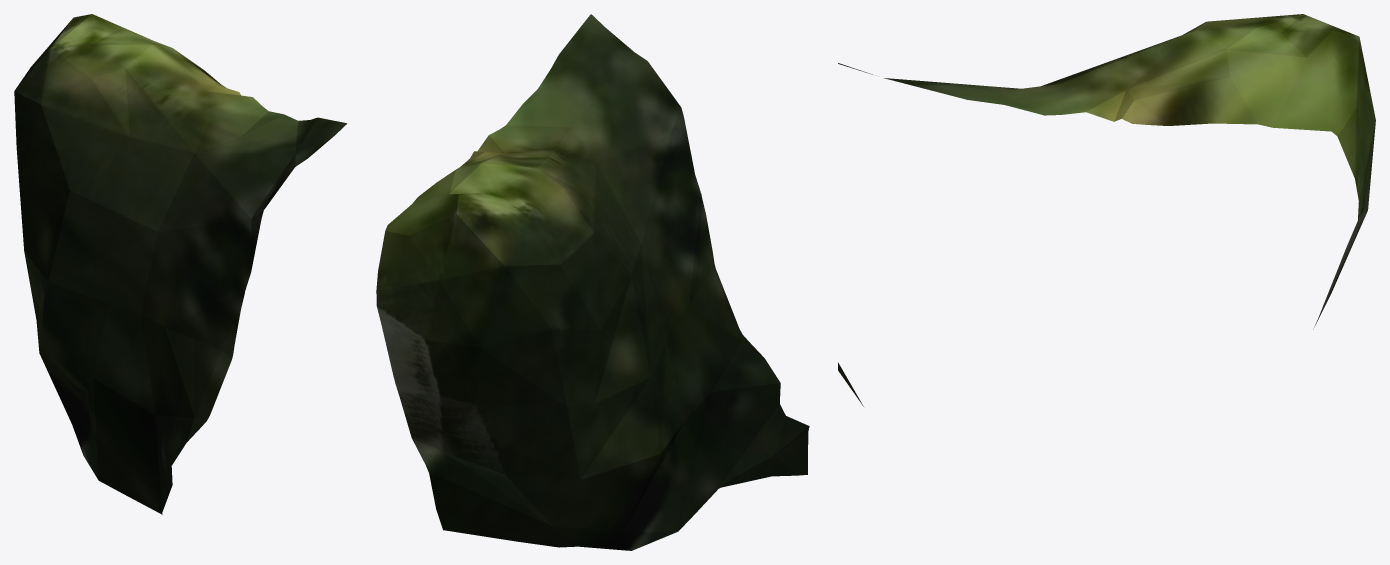
The picture shows the model from 3 angles, left to right: view 1: azimuth 30°, elevation 25°; view 2: azimuth 150°, elevation 25°; view 3: azimuth 270°, elevation 25°; orthographic projection. The views are drawn at different scales.
Size of the model in its own units: 0.2654 by 0.4734 by 0.4664.
Materials: 1 (1 with a texture image).
